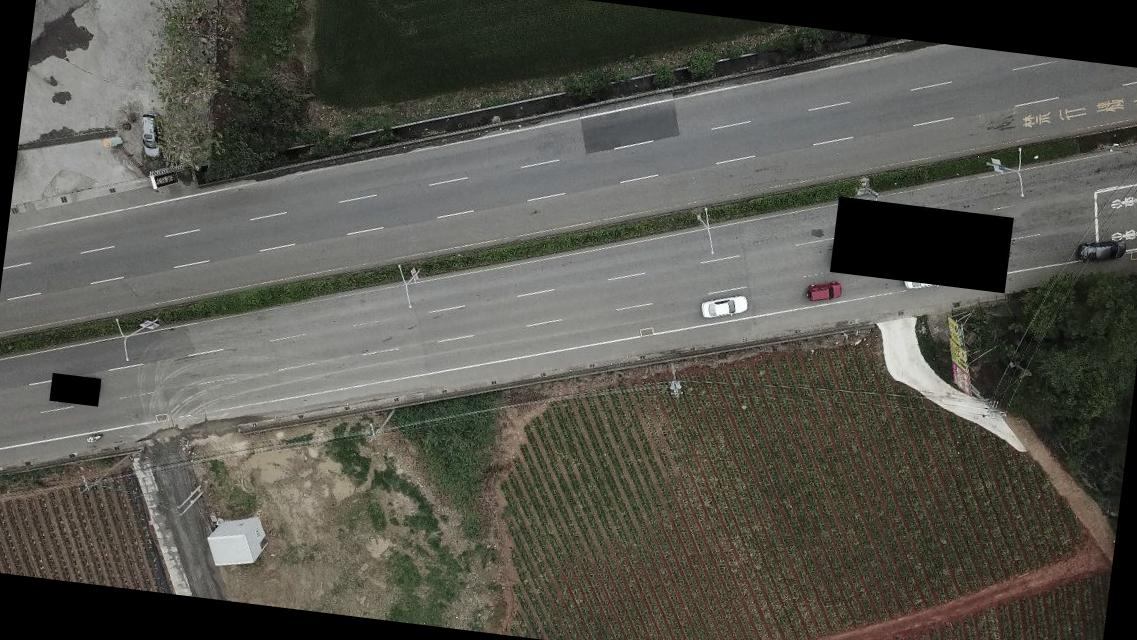vehicle: (698, 288, 750, 326), (901, 260, 952, 294), (1074, 236, 1124, 269), (134, 113, 166, 157), (802, 280, 843, 307)
